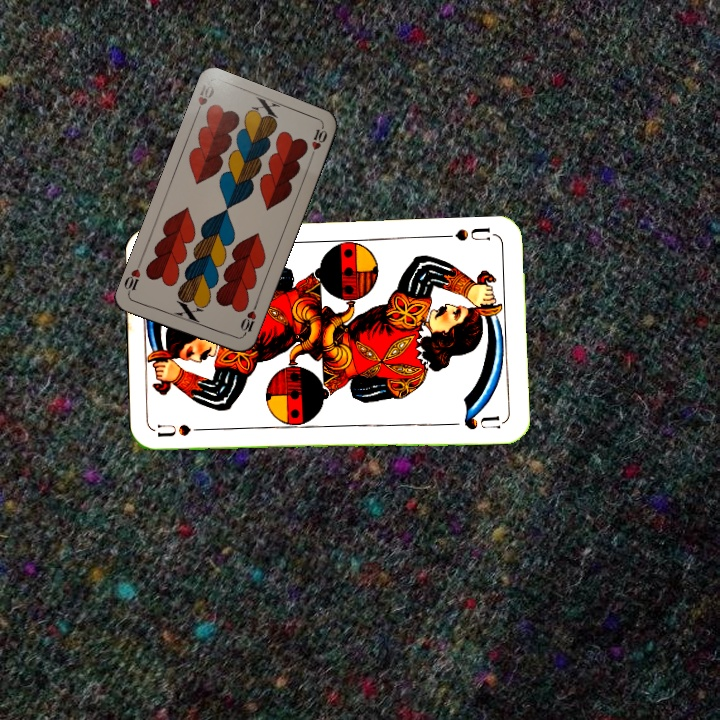H10: (190, 79, 217, 119), (236, 301, 260, 339)
SU: (154, 420, 214, 440), (451, 223, 493, 244)
